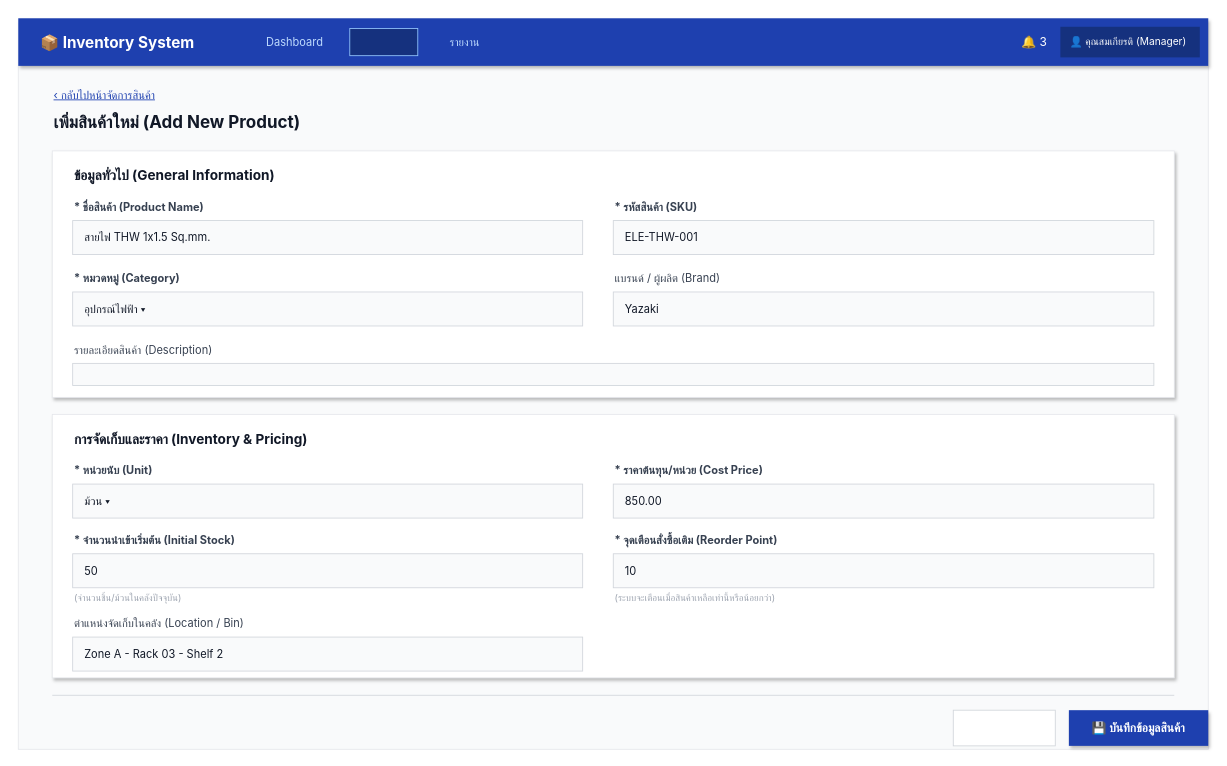
This 1227x766 diagram has some shape labels left out. Here are the shapes that lost their labels. From the top down, the centre of each, then its label:
At (x=383, y=42): "สินค้า".
At (x=613, y=374): "สายไฟทองแดงหุ้มฉนวน PVC ความยาวม้วนละ 100 เมตร".
At (x=1003, y=727): "ยกเลิก".
